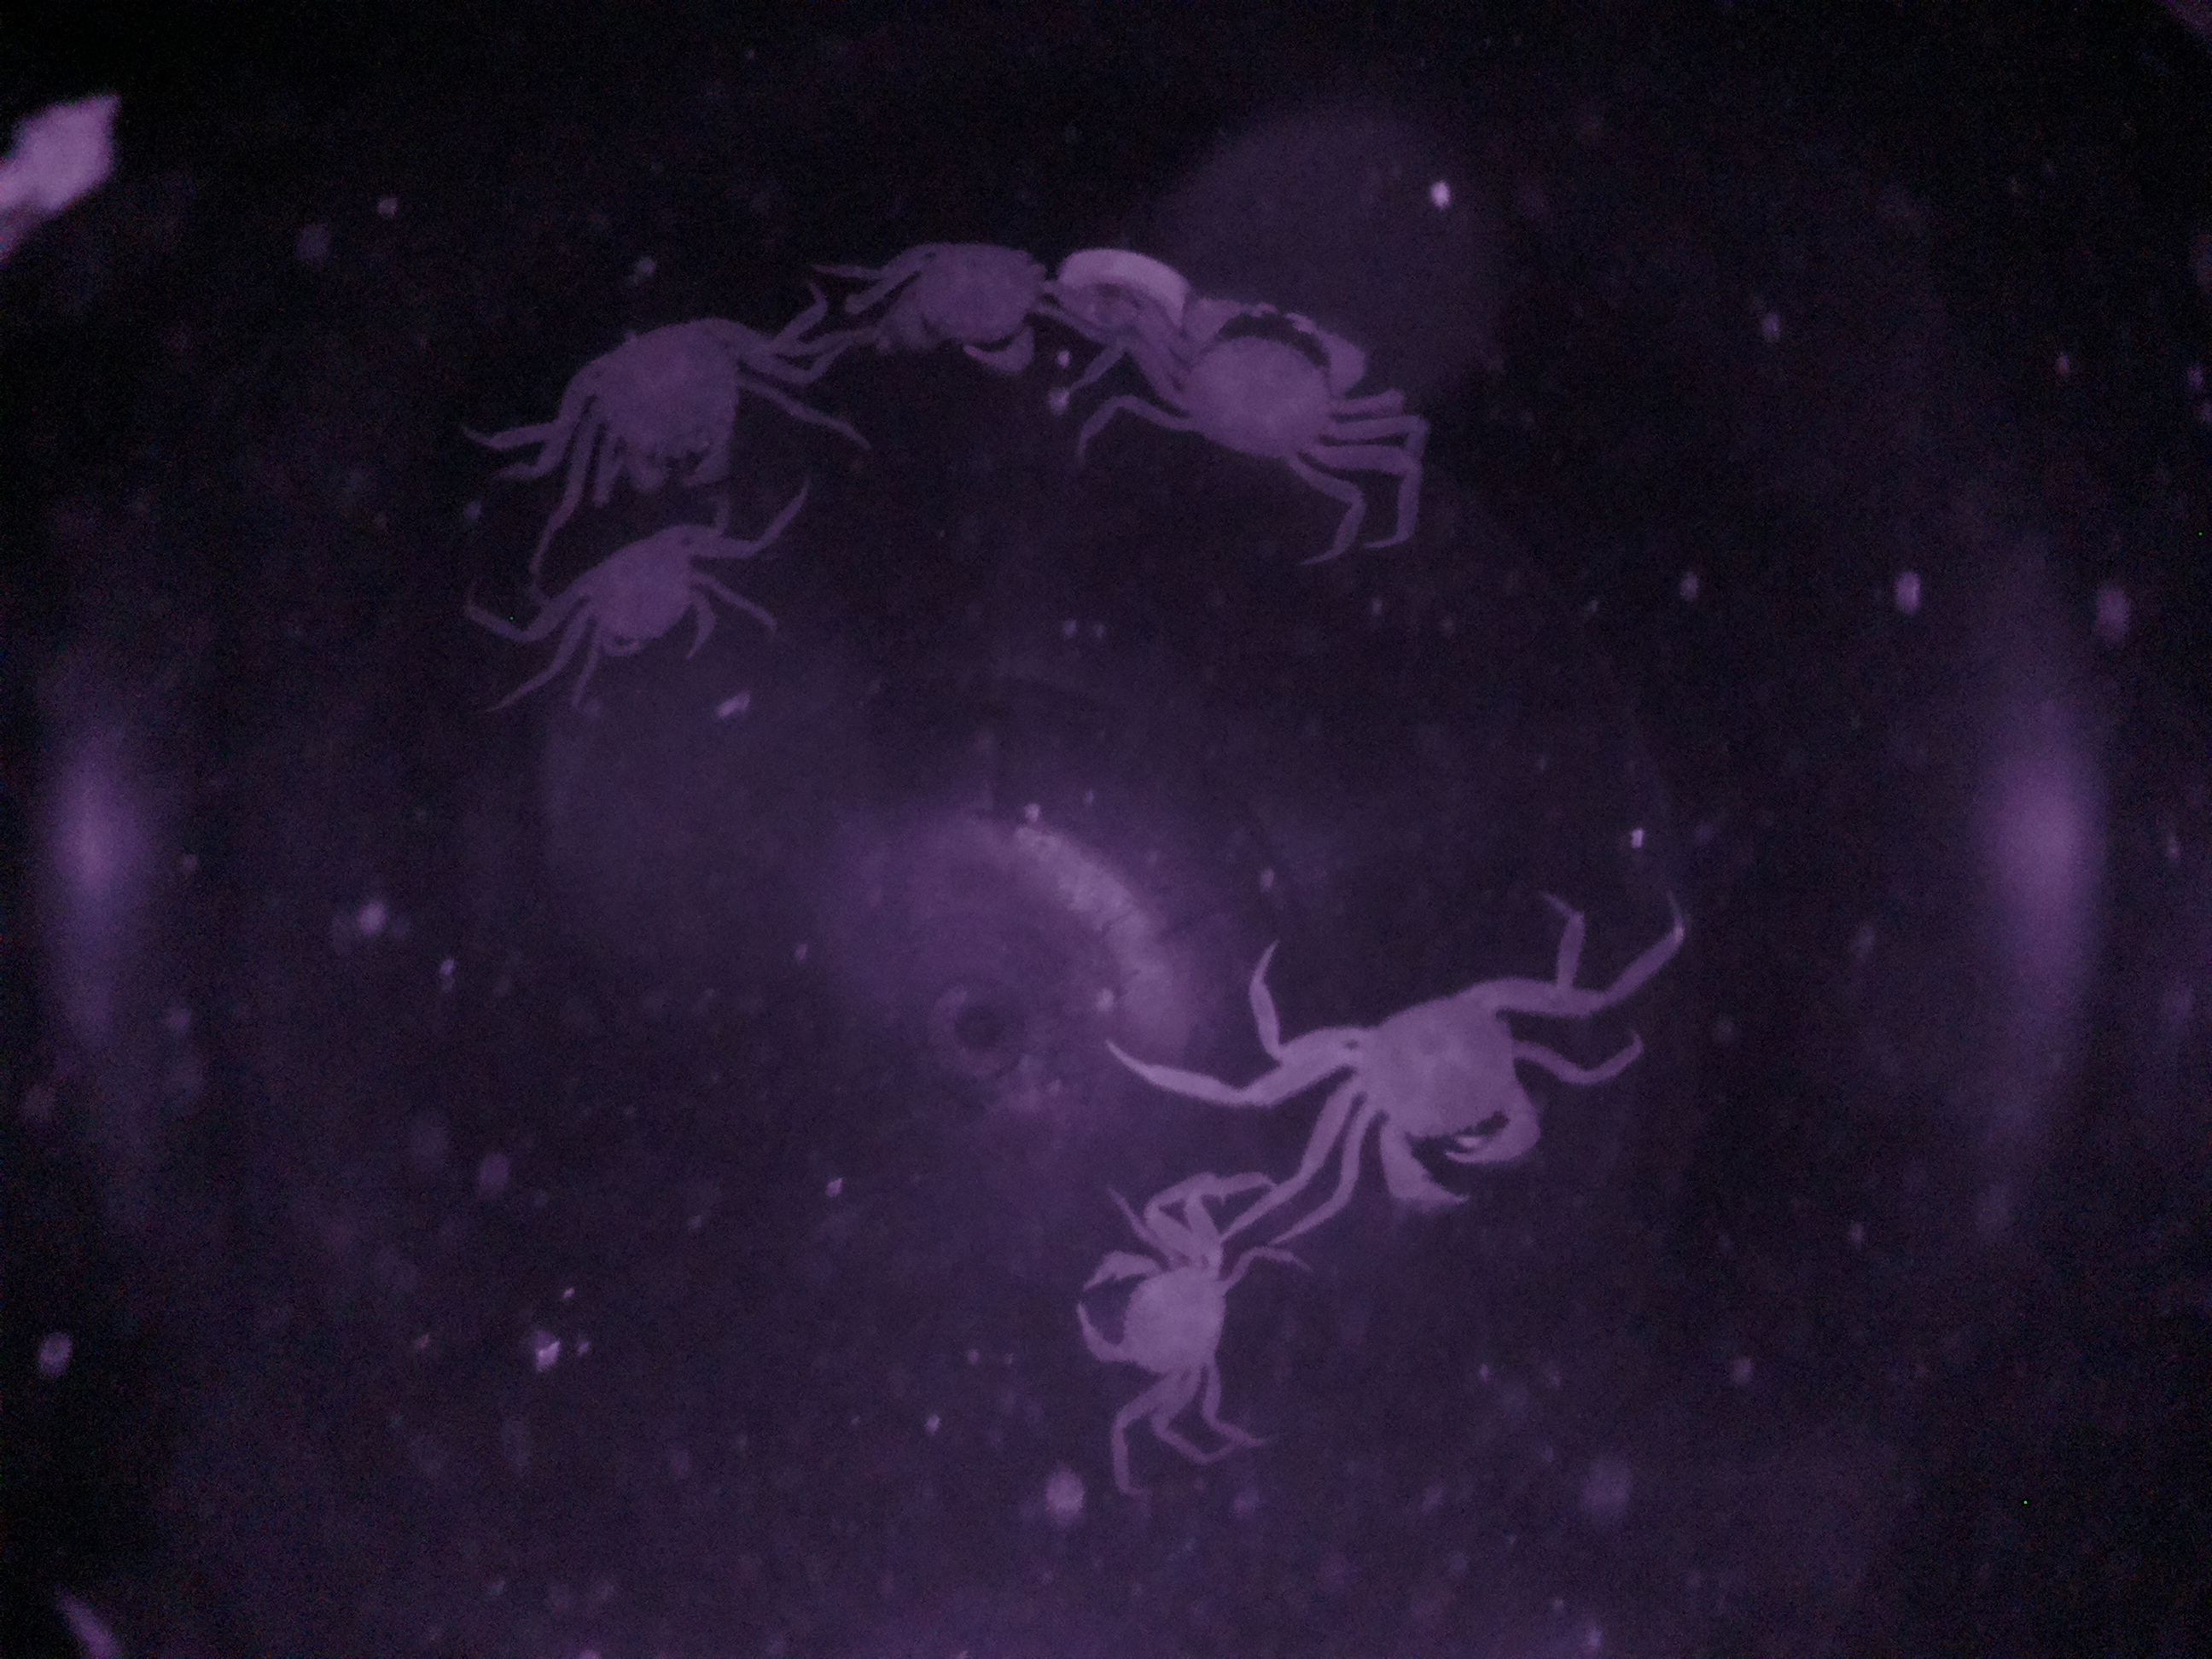Crab: (1294, 962, 1608, 1218), (570, 282, 784, 525), (1137, 275, 1379, 484), (1064, 1215, 1256, 1422), (859, 225, 1087, 373)
